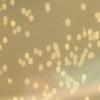white: (64, 17, 73, 28), (44, 3, 52, 15), (53, 49, 62, 58), (94, 11, 100, 23), (94, 30, 100, 41), (24, 30, 32, 38), (46, 60, 54, 68), (58, 69, 66, 77), (10, 20, 17, 29), (46, 43, 52, 53), (15, 24, 21, 33), (80, 3, 86, 12), (25, 7, 31, 16), (24, 77, 30, 86), (34, 82, 40, 91), (2, 37, 9, 44), (20, 7, 26, 15), (76, 33, 82, 41), (37, 48, 43, 56), (23, 52, 29, 60), (27, 57, 33, 65), (38, 64, 44, 72), (88, 52, 94, 60), (58, 80, 64, 88), (72, 86, 80, 92), (65, 34, 71, 41), (52, 43, 58, 50), (6, 77, 12, 84), (50, 53, 56, 60), (64, 60, 71, 66), (55, 60, 62, 66), (81, 73, 87, 80), (68, 75, 74, 82), (86, 28, 92, 35), (91, 35, 97, 42), (80, 57, 86, 64), (3, 3, 8, 11), (72, 81, 80, 86), (82, 30, 87, 38), (55, 67, 61, 73), (44, 84, 50, 90), (66, 82, 72, 88), (72, 54, 78, 60), (11, 0, 16, 7), (65, 43, 70, 50), (69, 50, 74, 57), (33, 48, 38, 55), (88, 42, 93, 49), (31, 95, 38, 100), (13, 28, 17, 36), (2, 64, 6, 72), (96, 41, 100, 49), (83, 96, 91, 100), (41, 96, 49, 100), (88, 34, 92, 42), (3, 16, 6, 26), (29, 15, 34, 21), (42, 90, 47, 96), (47, 92, 52, 98), (65, 75, 70, 81), (73, 60, 78, 66), (77, 62, 82, 68), (74, 45, 78, 52), (52, 88, 56, 95), (19, 95, 24, 100), (18, 58, 22, 64), (22, 60, 25, 68), (0, 70, 4, 76), (68, 90, 74, 94), (84, 48, 88, 54), (82, 53, 86, 59), (64, 57, 69, 61), (13, 96, 18, 100), (81, 80, 85, 84), (0, 44, 2, 50), (1, 0, 6, 2)
